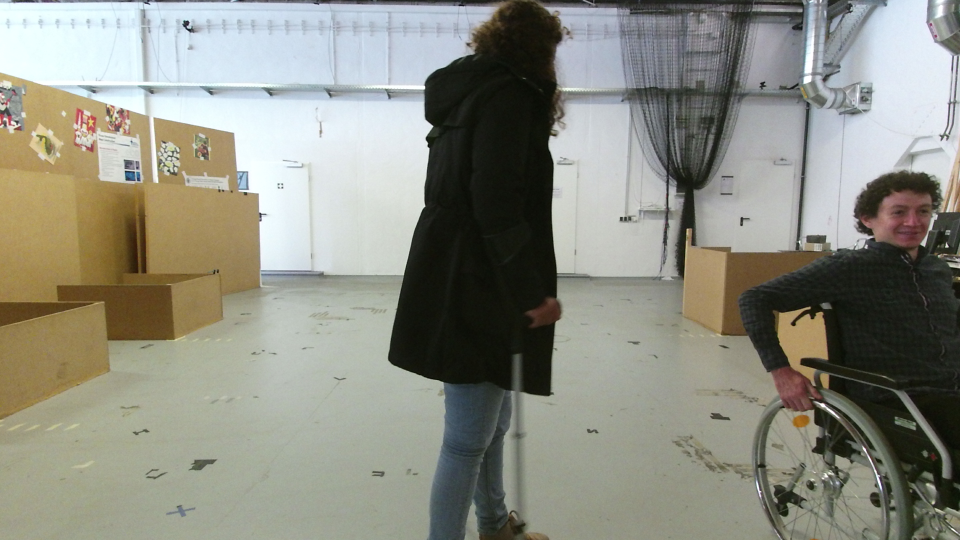crutches: (378, 1, 577, 540)
wheelchair: (733, 166, 960, 540)
